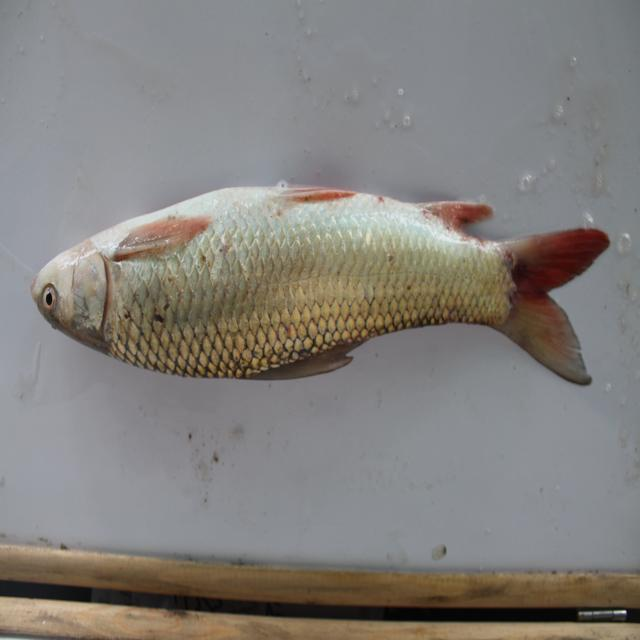Mori: (32, 167, 613, 402)
